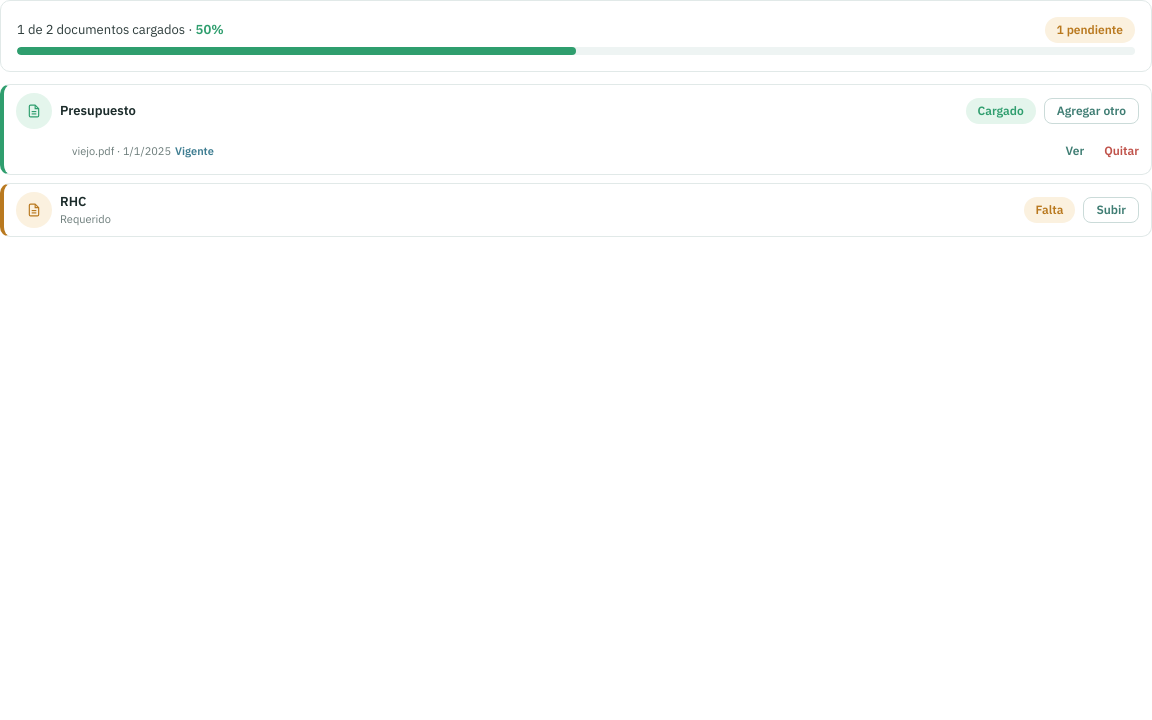
Scenario: DocumentChecklist — estados de carga/error/no-previsualizable (tasks.md 5.5, design.md D5) › si resolverPrevisualizacion resuelve null, muestra el estado explícito de "sin contenido para previsualizar"
Click the button with aria-label "ver presupuesto - viejo.pdf".
click(1075, 151)  # box [1066,143,1084,159]
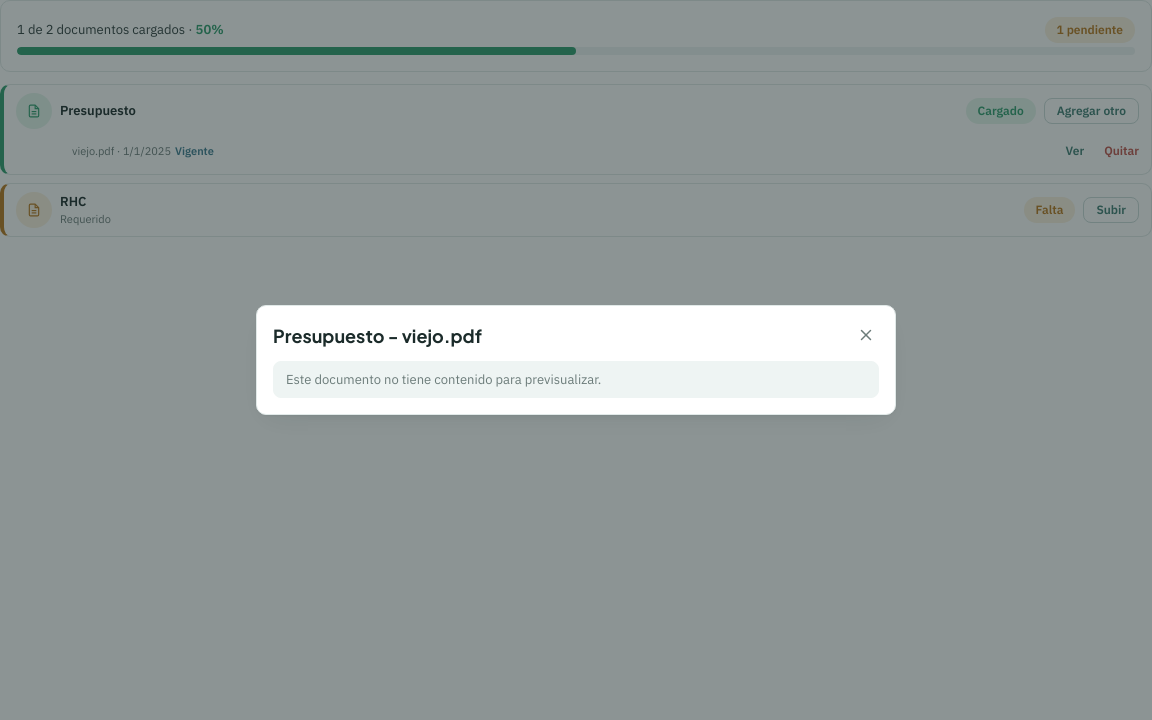
Now the text "Este documento no tiene contenido para previsualizar." is shown, box [273,361,879,398]
